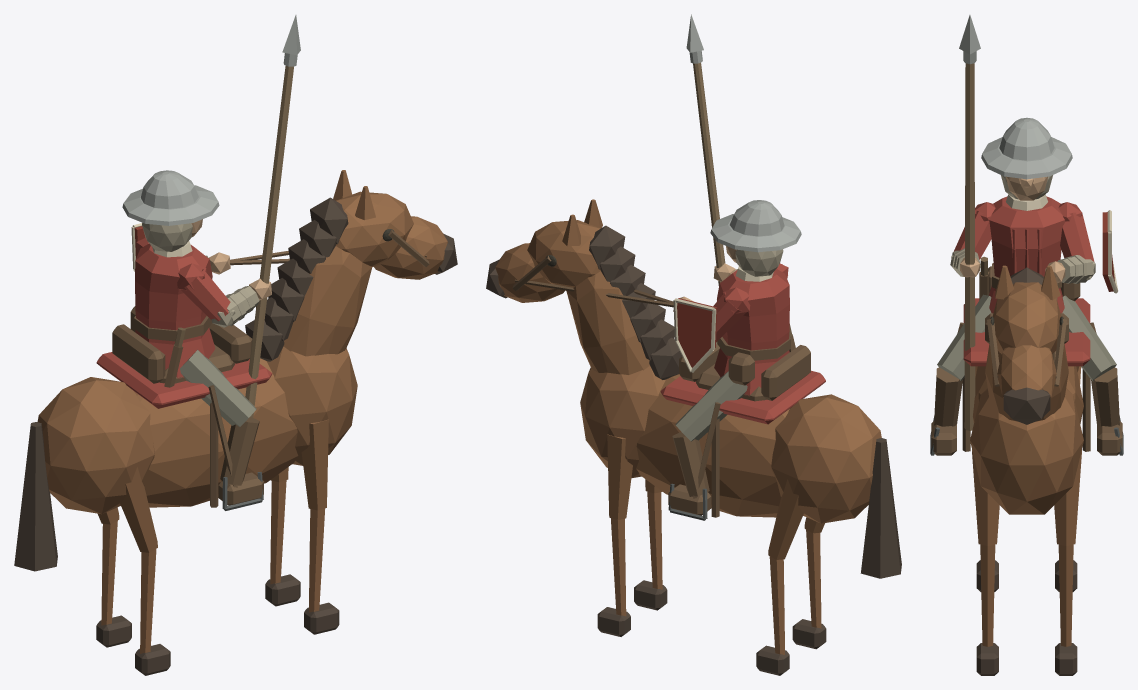
File: cavalry_light.glb
3 renders of one model, left to right at view 1: azimuth 30°, elevation 25°; view 2: azimuth 150°, elevation 25°; view 3: azimuth 270°, elevation 25°, orthographic. The views are drawn at different scales.
Parts seen in each view (by area): view 1: cavalry_light_horse, cavalry_light_mane, cavalry_light_team_cloth, cavalry_light_leather, cavalry_light_steel, cavalry_light_oak, cavalry_light_hose, cavalry_light_padded_linen, cavalry_light_skin; view 2: cavalry_light_horse, cavalry_light_mane, cavalry_light_team_cloth, cavalry_light_leather, cavalry_light_steel, cavalry_light_hose, cavalry_light_team_paint, cavalry_light_oak, cavalry_light_linen, cavalry_light_padded_linen; view 3: cavalry_light_horse, cavalry_light_team_cloth, cavalry_light_leather, cavalry_light_steel, cavalry_light_mane, cavalry_light_oak, cavalry_light_hose, cavalry_light_padded_linen, cavalry_light_skin, cavalry_light_linen, cavalry_light_team_paint.
Part boxes in pixels (x1,y1,x2,y2): cavalry_light_horse: [37, 170, 447, 653]; cavalry_light_mane: [14, 197, 457, 675]; cavalry_light_team_cloth: [96, 238, 272, 408]; cavalry_light_leather: [112, 229, 429, 507]; cavalry_light_steel: [122, 15, 300, 225]; cavalry_light_oak: [245, 66, 293, 417]; cavalry_light_hose: [180, 349, 256, 426]; cavalry_light_padded_linen: [142, 223, 259, 327]; cavalry_light_skin: [191, 219, 271, 300]; cavalry_light_horse: [495, 199, 881, 654]; cavalry_light_mane: [486, 225, 901, 675]; cavalry_light_team_cloth: [660, 263, 825, 424]; cavalry_light_leather: [512, 255, 810, 517]; cavalry_light_steel: [686, 14, 801, 252]; cavalry_light_hose: [675, 371, 747, 441]; cavalry_light_team_paint: [677, 298, 717, 367]; cavalry_light_oak: [693, 62, 725, 285]; cavalry_light_linen: [673, 266, 773, 372]; cavalry_light_padded_linen: [716, 249, 783, 344]; cavalry_light_horse: [970, 265, 1083, 646]; cavalry_light_team_cloth: [954, 196, 1094, 366]; cavalry_light_leather: [931, 263, 1122, 455]; cavalry_light_steel: [959, 15, 1072, 179]; cavalry_light_mane: [976, 267, 1077, 675]; cavalry_light_oak: [964, 63, 975, 430]; cavalry_light_hose: [937, 294, 1116, 381]; cavalry_light_padded_linen: [950, 175, 1095, 283]; cavalry_light_skin: [960, 176, 1065, 282]; cavalry_light_linen: [1006, 194, 1118, 293]; cavalry_light_team_paint: [1102, 212, 1114, 291].
Bounding box in the file's own units: 2.88 × 3.96 × 1.09.
